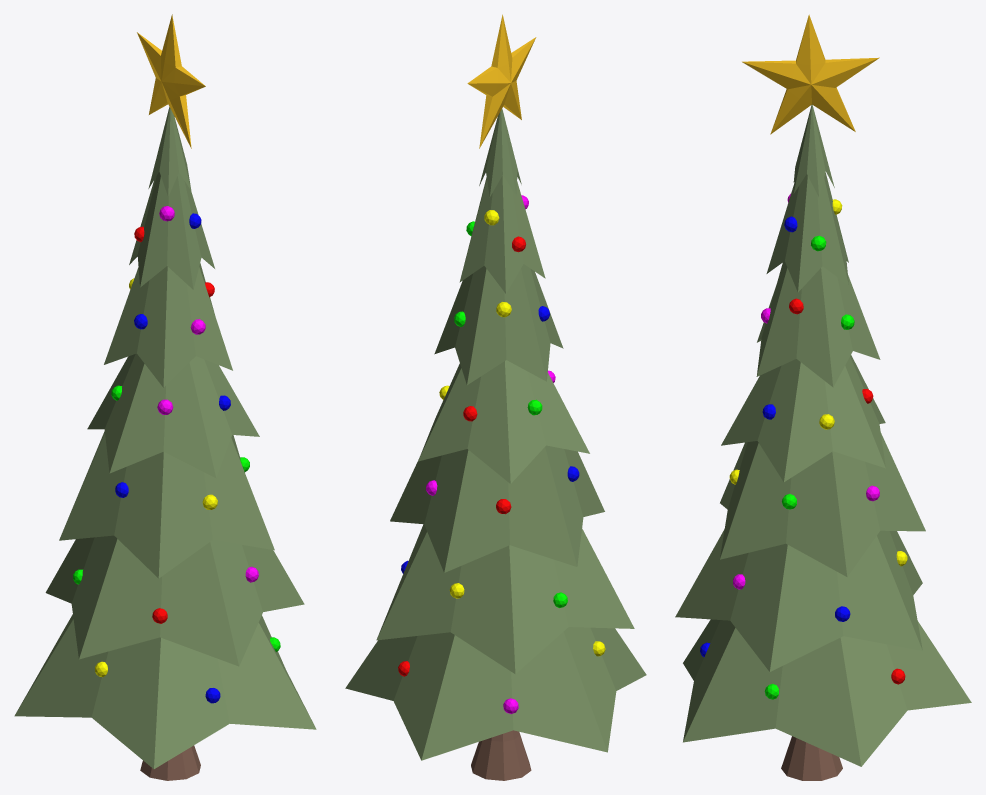
Rendered from ChristmasTree.fbx.
3 views of the same model, side by side, from view 1: azimuth 30°, elevation 25°; view 2: azimuth 150°, elevation 25°; view 3: azimuth 270°, elevation 25° (orthographic).
Visible parts, largest first — view 1: Leaves, Star Topper, Trunk, Bulbs Blue, Bulbs Pink; view 2: Leaves, Star Topper, Trunk, Bulbs Yellow, Bulbs Red, Bulbs Green; view 3: Leaves, Star Topper, Trunk, Bulbs Green, Bulbs Blue, Bulbs Yellow.
Part boxes in pixels (<box>): Leaves: <box>14,107,316,768</box>; Star Topper: <box>137,14,205,148</box>; Trunk: <box>140,745,200,780</box>; Bulbs Blue: <box>115,213,230,703</box>; Bulbs Pink: <box>157,206,258,582</box>; Leaves: <box>345,108,646,760</box>; Star Topper: <box>467,14,536,148</box>; Trunk: <box>471,730,531,780</box>; Bulbs Yellow: <box>439,210,605,656</box>; Bulbs Red: <box>398,236,525,676</box>; Bulbs Green: <box>454,221,567,607</box>; Leaves: <box>675,104,971,766</box>; Star Topper: <box>742,14,879,134</box>; Trunk: <box>781,736,842,780</box>; Bulbs Green: <box>764,235,854,699</box>; Bulbs Blue: <box>700,216,850,657</box>; Bulbs Yellow: <box>729,199,907,566</box>.
Bounding box in the file's own units: 416 × 1140 × 406.
